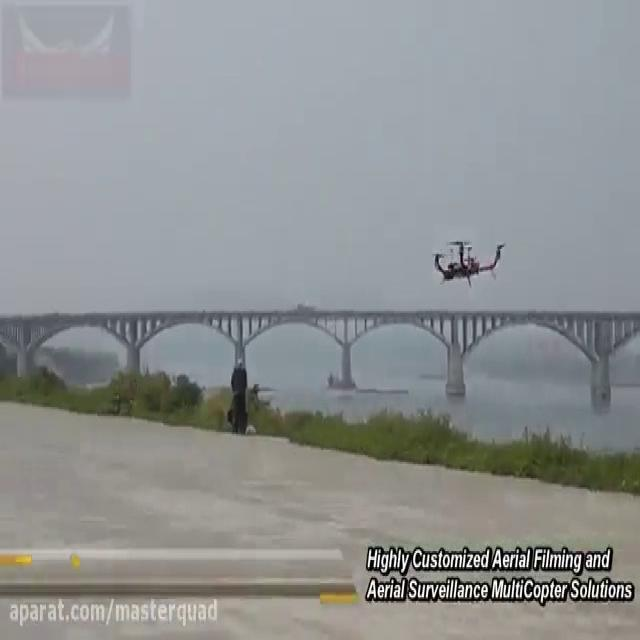drone: (428, 231, 510, 290)
